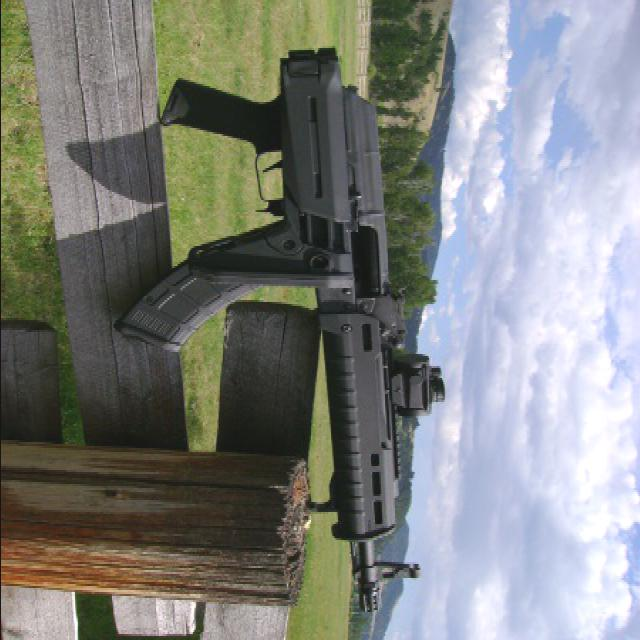long weapon: (116, 24, 444, 614)
